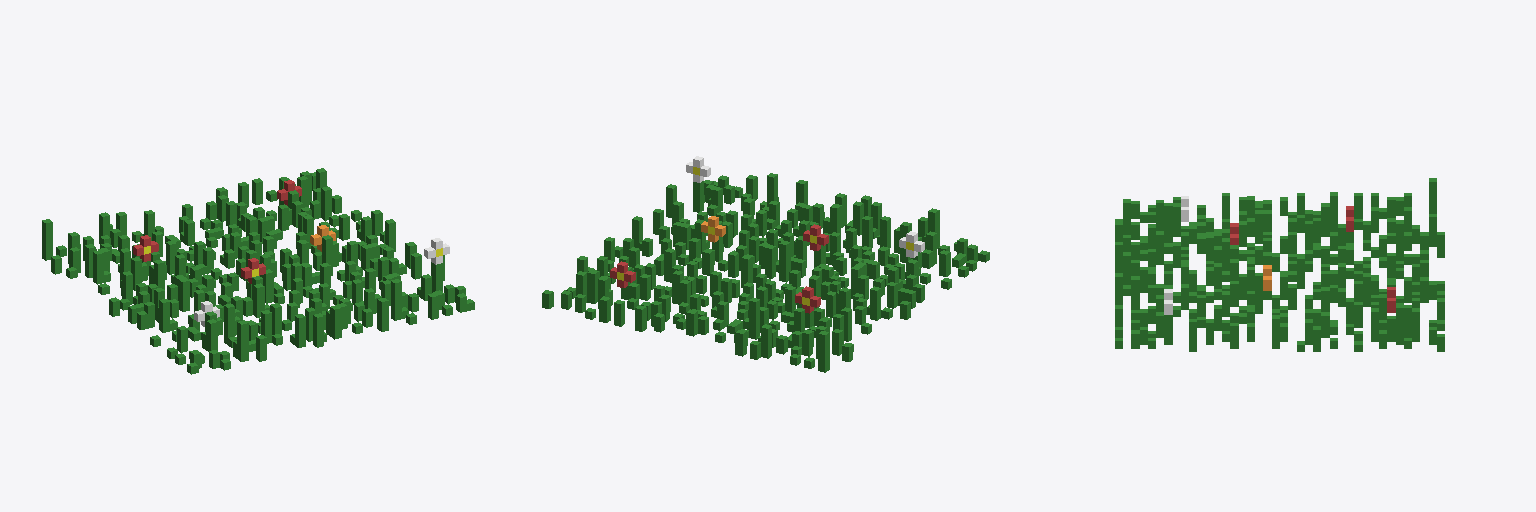
The picture shows the model from 3 angles: view 1: azimuth 30°, elevation 25°; view 2: azimuth 150°, elevation 25°; view 3: azimuth 270°, elevation 25°; orthographic projection.
Visible parts, largest first — view 1: object 1; view 2: object 1; view 3: object 1.
Part boxes in pixels (x1,y1,x2,y2): object 1: (42,168,474,374); object 1: (542,156,989,372); object 1: (1115,178,1444,351).
Bounding box in the file's own units: 4 × 0.7 × 4.
1 materials, 1 textured.